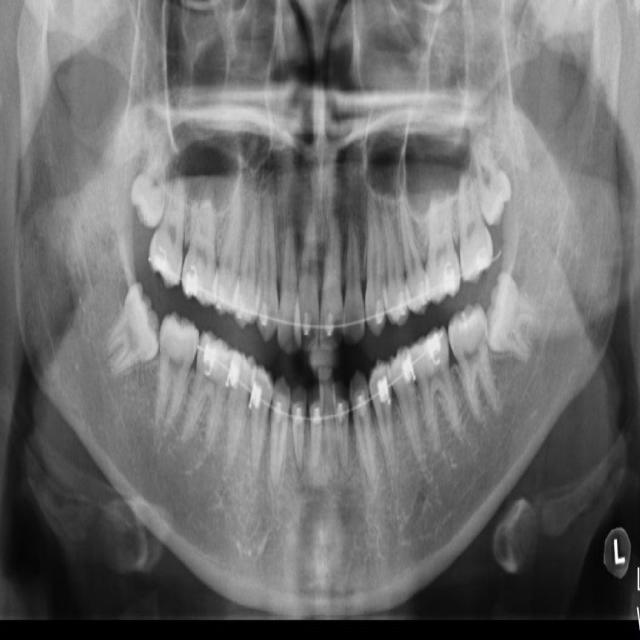3M ESPE Implant: (124, 140, 179, 230)
73: (574, 560, 578, 571)
BioHorizons Implant: (459, 173, 498, 287)
BioLife Implant: (468, 137, 517, 229)
Biomet 3i Implant: (473, 267, 556, 367)
Blue Sky Bio Implant: (441, 303, 502, 422)
Caries: (144, 170, 194, 291)
Implant: (153, 314, 203, 439)
Keystone Dental Implant: (91, 279, 183, 393)
